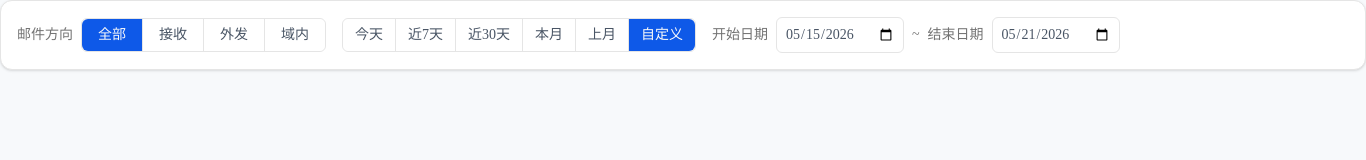
Test: FilterBar custom date range (GT-11979 / GT-11930) › does NOT propagate an end-before-start range — it shows an error instead
In the date field labelled "结束日期": (1056, 35) x1=992 y1=17 x2=1120 y2=53, type "2026-05-01"
Wait 510 ms
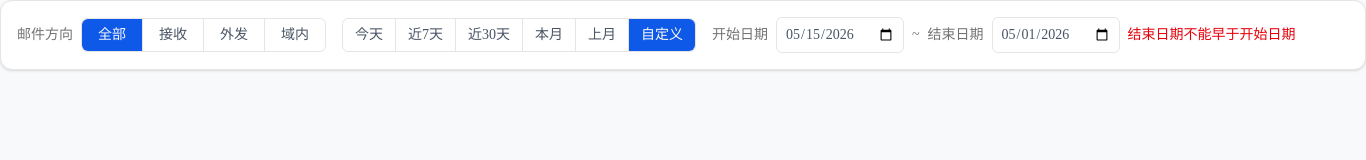
Check: the message reads "结束日期不能早于开始日期", box x1=1128 y1=27 x2=1296 y2=42
